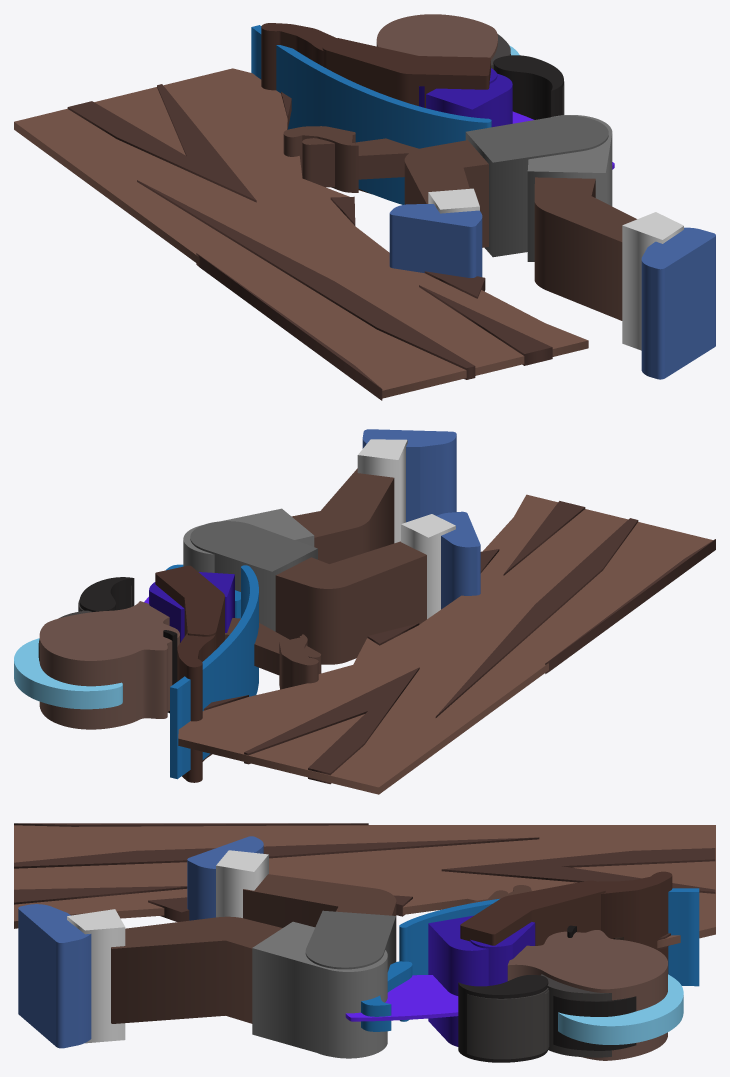
File: emoji_u1f9d7_1f3ff_200d_2640.glb
The picture shows the model from 3 angles, top to bottom: view 1: azimuth 30°, elevation 25°; view 2: azimuth 150°, elevation 25°; view 3: azimuth 270°, elevation 25°; orthographic projection. The views are drawn at different scales.
Visible parts, largest first — view 1: emoji_u1f9d7_1f3ff_200d_2640; view 2: emoji_u1f9d7_1f3ff_200d_2640; view 3: emoji_u1f9d7_1f3ff_200d_2640.
Part boxes in pixels (<box>): emoji_u1f9d7_1f3ff_200d_2640: <box>14,14,715,400</box>; emoji_u1f9d7_1f3ff_200d_2640: <box>14,429,715,794</box>; emoji_u1f9d7_1f3ff_200d_2640: <box>14,823,715,1062</box>.
Bounding box in the file's own units: 0.0236 × 0.0066 × 0.0338.
